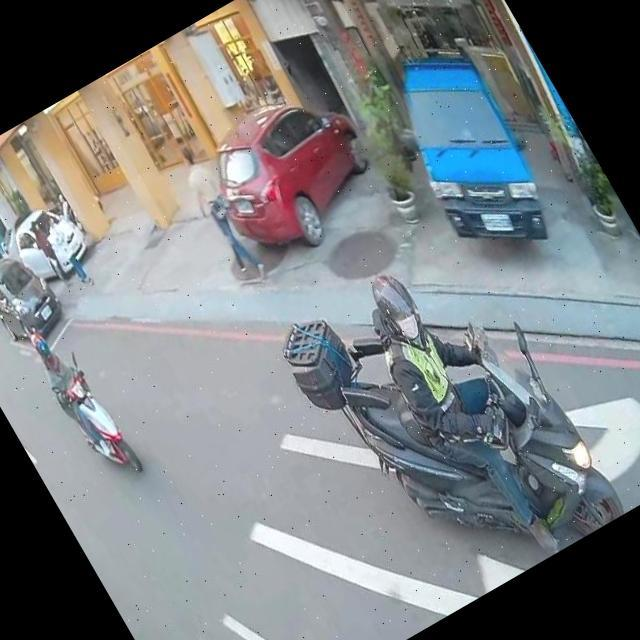person: (337, 234, 602, 582), (162, 132, 278, 296), (20, 315, 132, 470), (40, 206, 100, 294), (21, 214, 78, 293), (0, 235, 15, 258), (0, 240, 4, 261)
